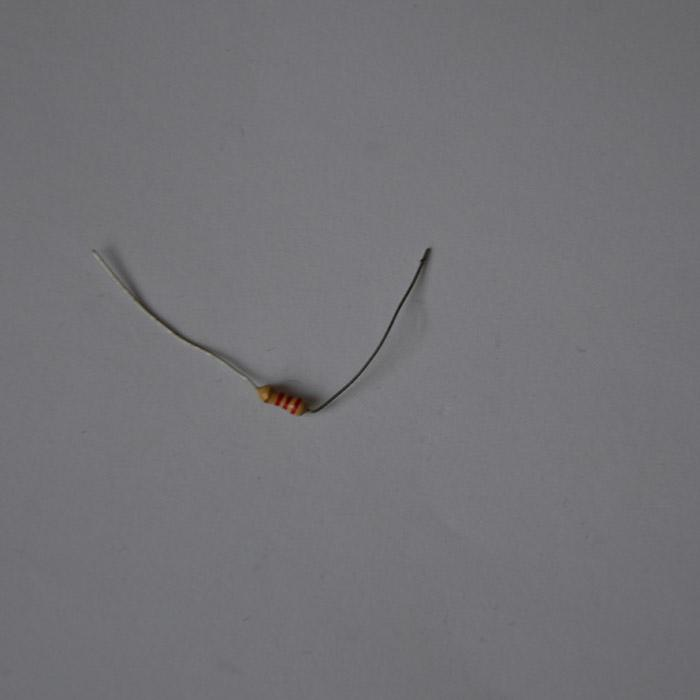resistor: (258, 384, 307, 416)
